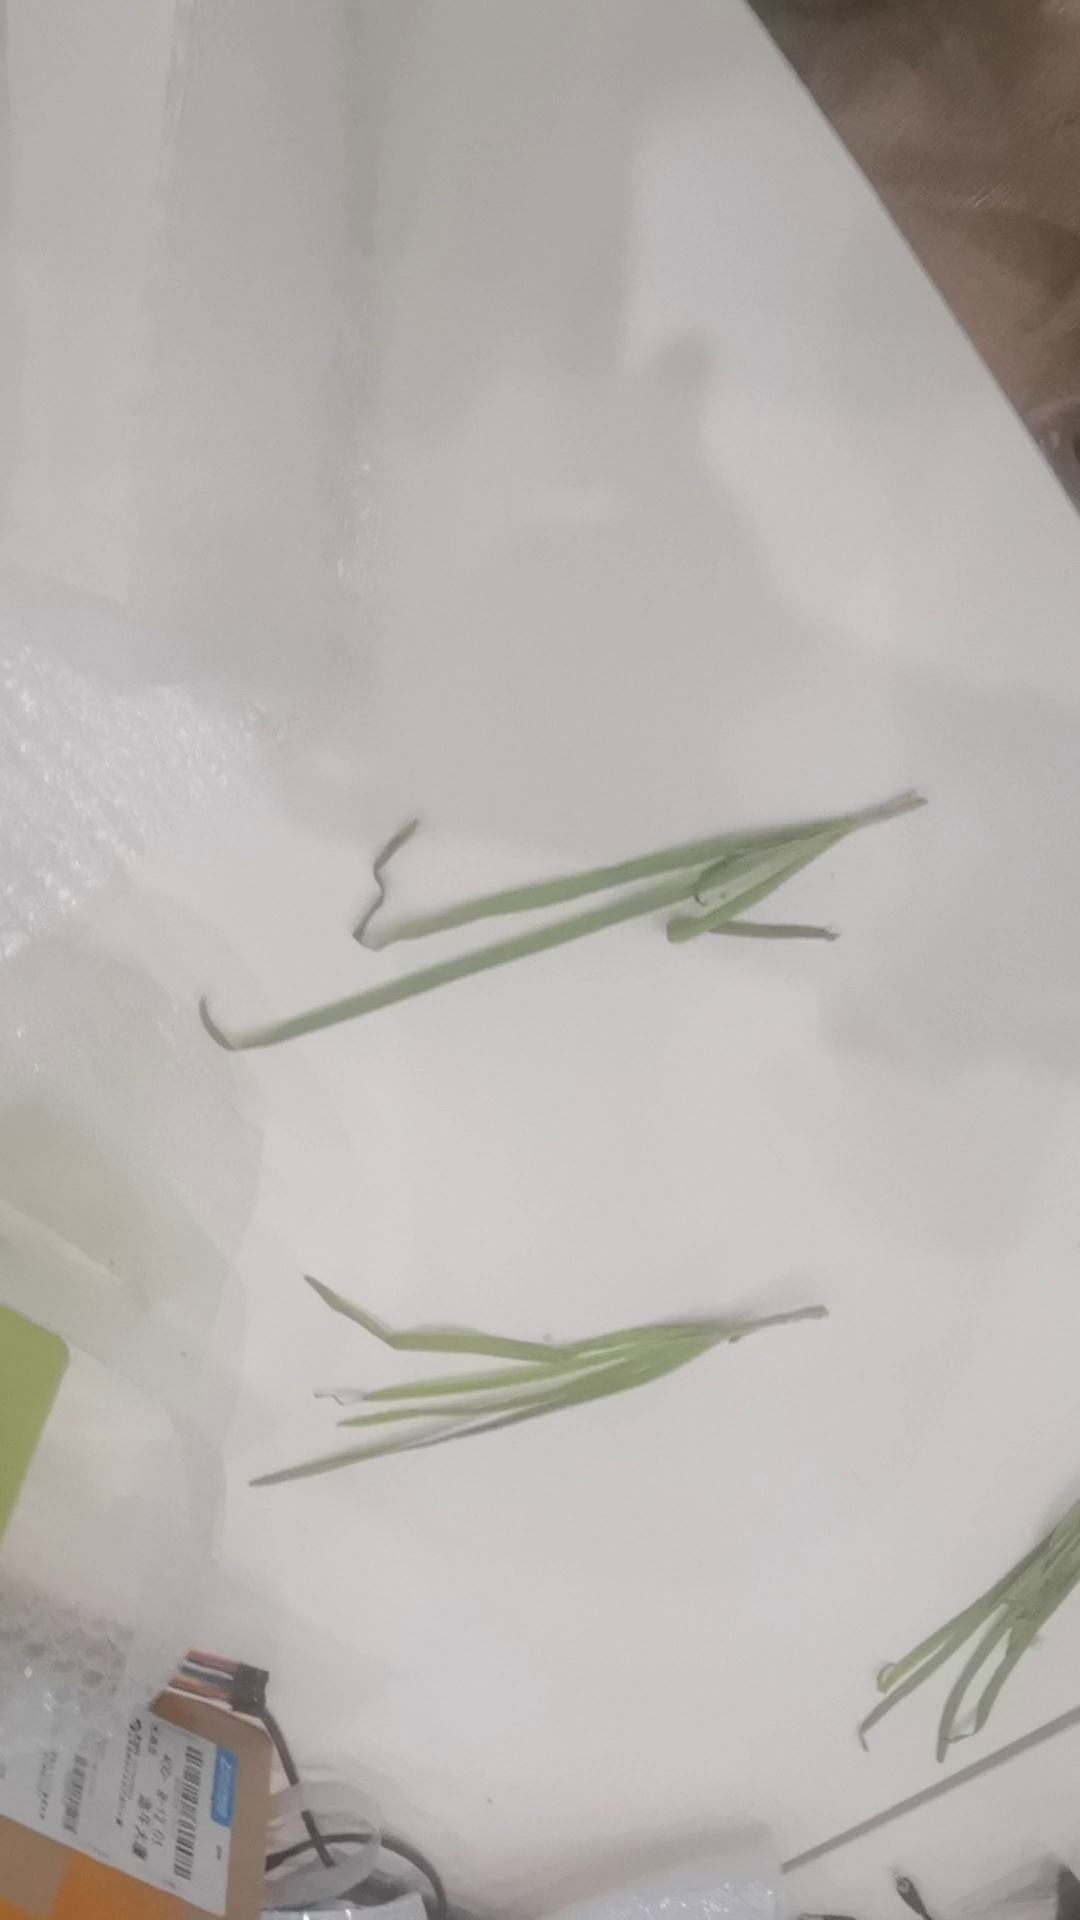chives: (175, 790, 928, 1033), (218, 1233, 858, 1491)
